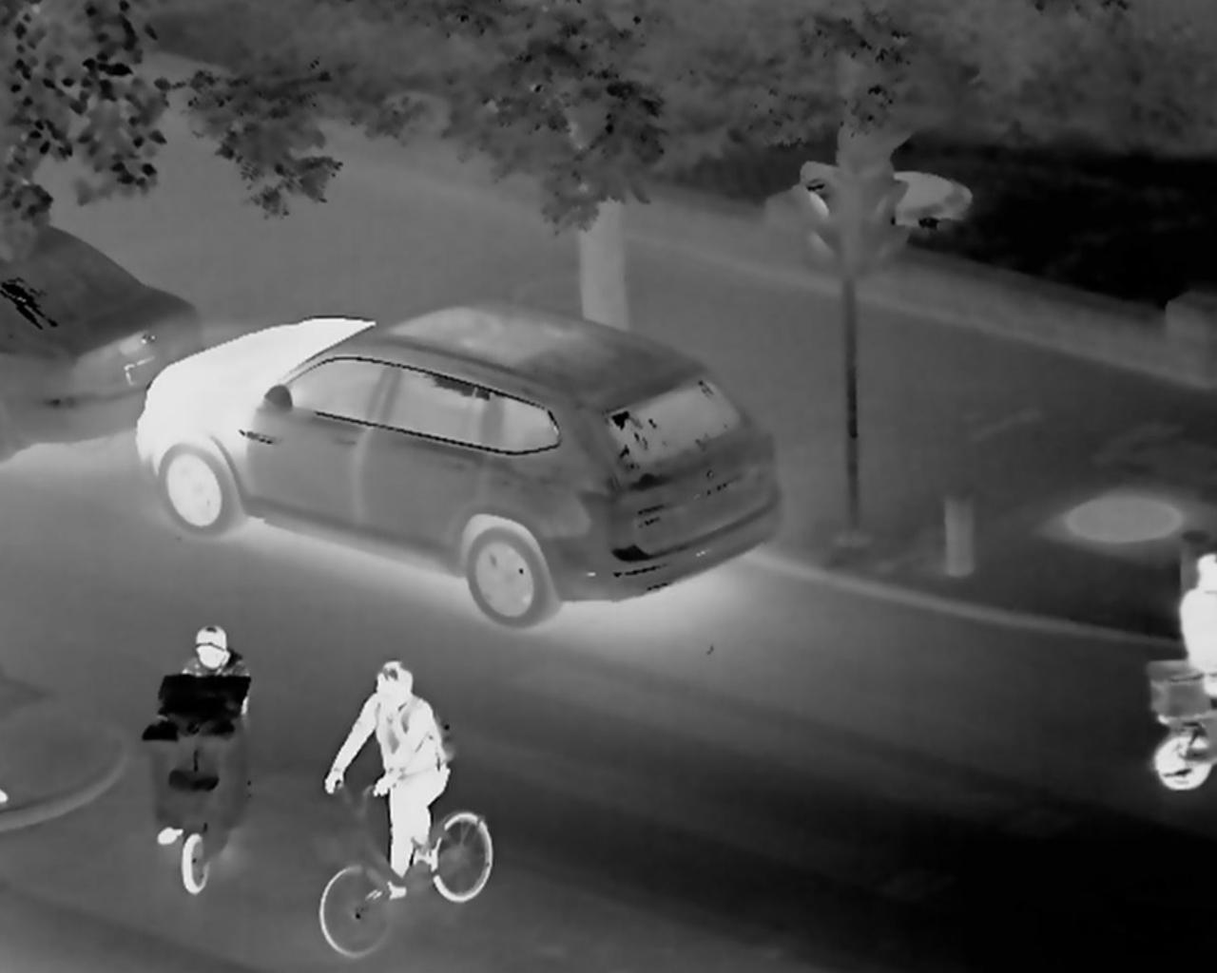person: (313, 653, 498, 901), (1167, 553, 1217, 705), (177, 623, 261, 691)
